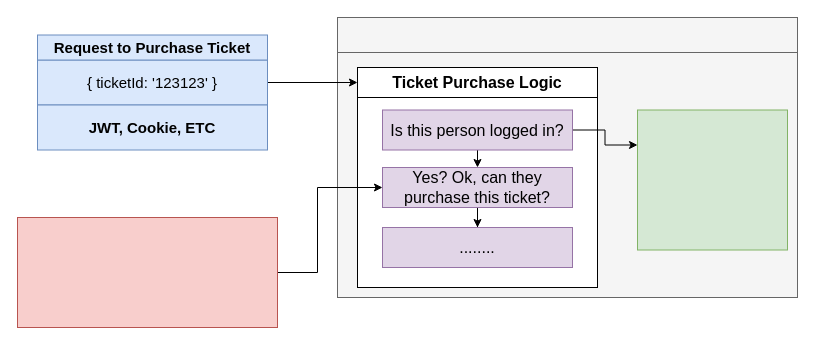
Some shapes in this 815 by 345 pixel diagram are drawn without their labels. The box of each missing label's shape, as (x1, y1, x2, y2) in pixels:
Implies that the auth mechanism will tell us details about this person: (16, 216, 278, 328)
Logic to inspect JWT/Cookie and decide if user is authenticated: (636, 109, 788, 250)
Orders Service: (336, 16, 798, 52)
